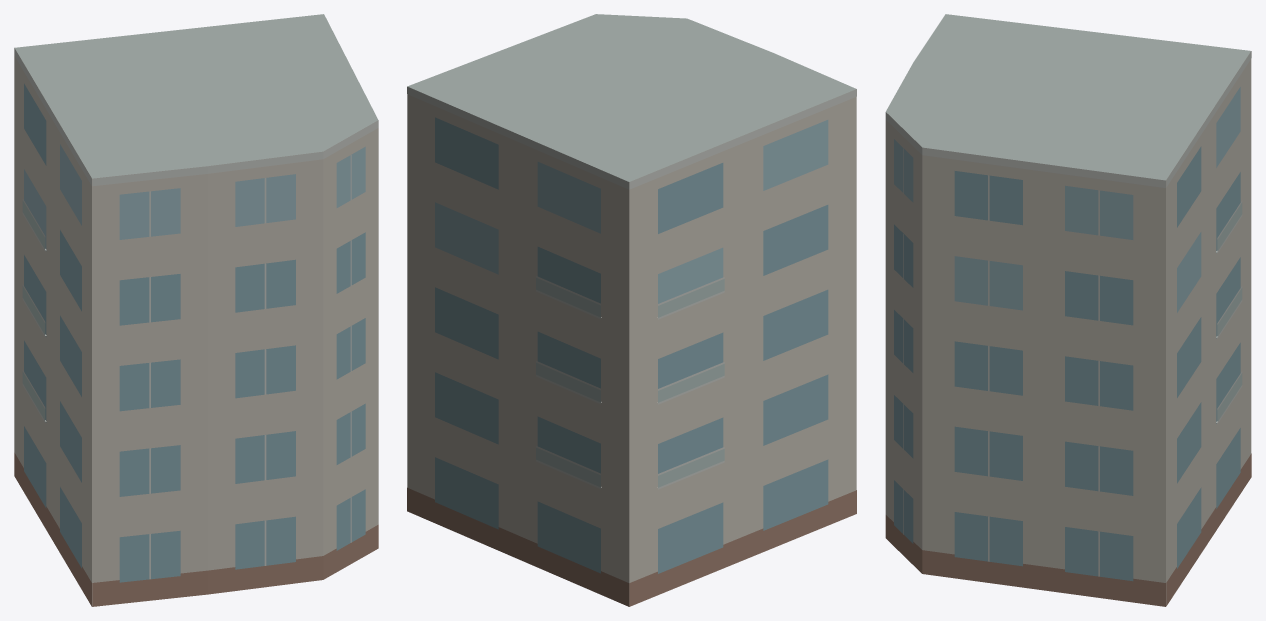
The model's file is survey-upis-32528192.glb.
3 renders of one model, left to right at view 1: azimuth 30°, elevation 25°; view 2: azimuth 150°, elevation 25°; view 3: azimuth 270°, elevation 25°, orthographic.
Parts seen in each view (by area): view 1: survey-upis-32528192.tmp; view 2: survey-upis-32528192.tmp; view 3: survey-upis-32528192.tmp.
Part boxes in pixels (left/top/right/bottom): survey-upis-32528192.tmp: left=14, top=14, right=378, bottom=606; survey-upis-32528192.tmp: left=407, top=14, right=856, bottom=606; survey-upis-32528192.tmp: left=885, top=14, right=1251, bottom=606.
Bounding box in the file's own units: 11.4 × 13.6 × 10.58.
